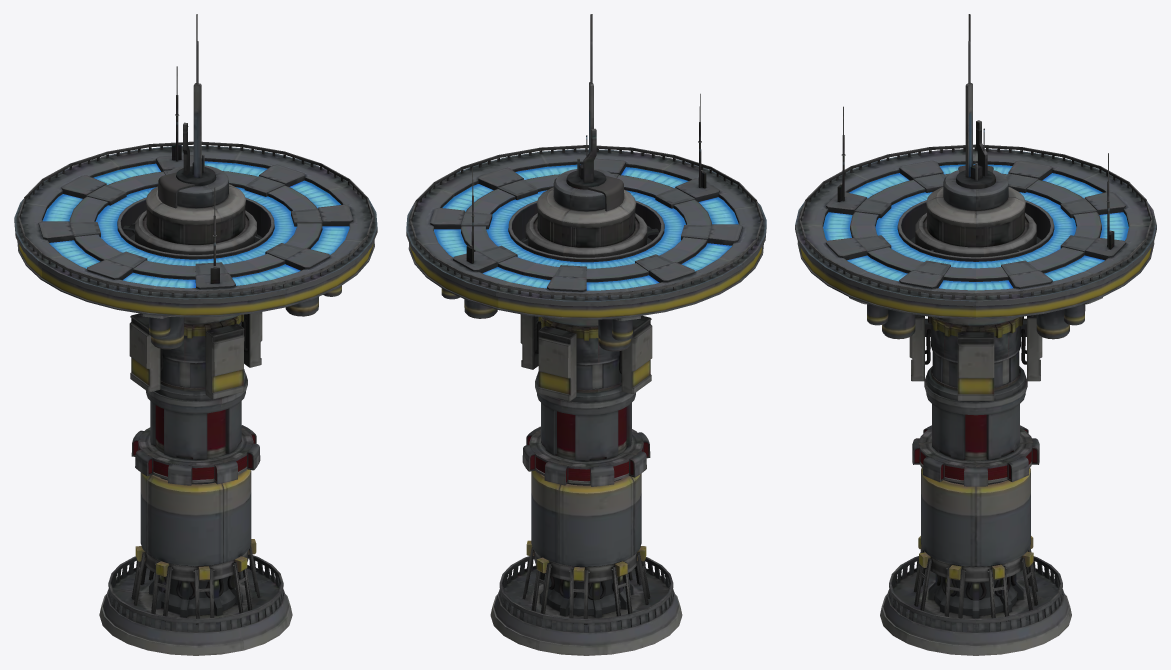
The model's file is SM_Capacitor_Large_dbb237.glb.
3 views of the same model, side by side, from view 1: azimuth 30°, elevation 25°; view 2: azimuth 150°, elevation 25°; view 3: azimuth 270°, elevation 25° (orthographic).
Size of the model in its own units: 3.67 by 6.71 by 3.67.
Materials: 2 (2 with a texture image).
